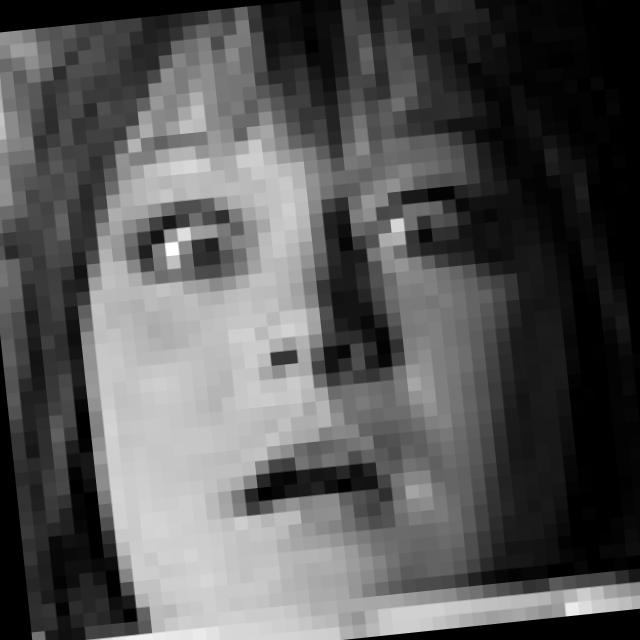fear: (100, 99, 538, 565)
